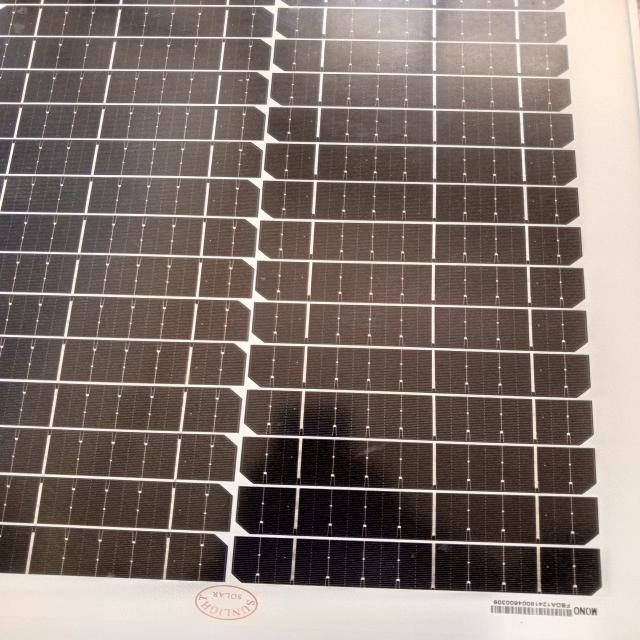Clean: (19, 25, 618, 619)
